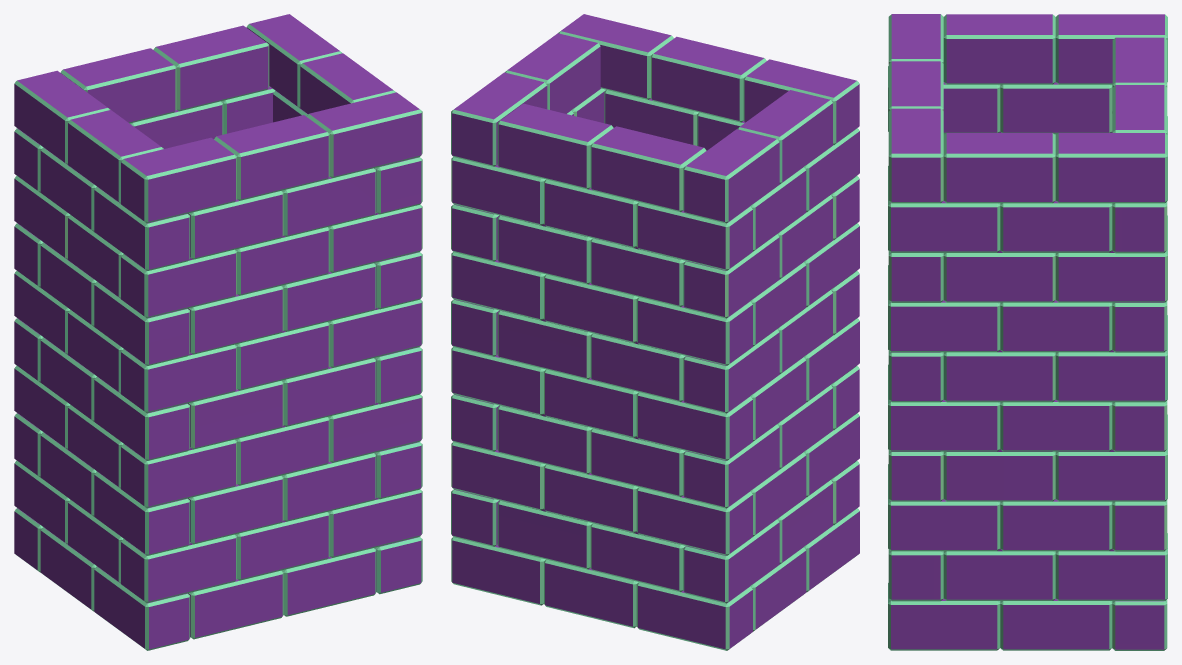
The model's file is KüpKaleEngel.fbx.
3 views of the same model, side by side, from view 1: azimuth 30°, elevation 25°; view 2: azimuth 150°, elevation 25°; view 3: azimuth 270°, elevation 25° (orthographic). The views are drawn at different scales.
Parts seen in each view (by area): view 1: KüpKaleEngel.045, KüpKaleEngel.039, KüpKaleEngel.043, KüpKaleEngel.044, KüpKaleEngel.040, KüpKaleEngel.009, KüpKaleEngel.027, KüpKaleEngel.036, KüpKaleEngel.018, KüpKaleEngel.041, KüpKaleEngel.042, KüpKaleEngel.100 (+50 smaller); view 2: KüpKaleEngel.041, KüpKaleEngel.040, KüpKaleEngel.039, KüpKaleEngel.044, KüpKaleEngel.052, KüpKaleEngel.106, KüpKaleEngel.079, KüpKaleEngel.133, KüpKaleEngel.160, KüpKaleEngel.037, KüpKaleEngel.042, KüpKaleEngel.043 (+49 smaller); view 3: KüpKaleEngel.038, KüpKaleEngel.042, KüpKaleEngel.037, KüpKaleEngel.019, KüpKaleEngel.077, KüpKaleEngel.011, KüpKaleEngel.020, KüpKaleEngel.078, KüpKaleEngel.132, KüpKaleEngel.010, KüpKaleEngel.131, KüpKaleEngel.028 (+26 smaller).
Part boxes in pixels (x1=…): KüpKaleEngel.045: x1=121, y1=137, x2=236, y2=223; KüpKaleEngel.039: x1=153, y1=25, x2=269, y2=111; KüpKaleEngel.043: x1=306, y1=92, x2=422, y2=178; KüpKaleEngel.044: x1=214, y1=115, x2=329, y2=200; KüpKaleEngel.040: x1=60, y1=48, x2=176, y2=123; KüpKaleEngel.009: x1=121, y1=534, x2=236, y2=602; KüpKaleEngel.027: x1=121, y1=344, x2=236, y2=413; KüpKaleEngel.036: x1=121, y1=249, x2=236, y2=318; KüpKaleEngel.018: x1=121, y1=439, x2=236, y2=508; KüpKaleEngel.041: x1=14, y1=70, x2=110, y2=164; KüpKaleEngel.042: x1=68, y1=110, x2=163, y2=203; KüpKaleEngel.100: x1=94, y1=377, x2=190, y2=460; KüpKaleEngel.041: x1=683, y1=129, x2=779, y2=223; KüpKaleEngel.040: x1=590, y1=126, x2=706, y2=212; KüpKaleEngel.039: x1=497, y1=103, x2=613, y2=189; KüpKaleEngel.044: x1=651, y1=36, x2=766, y2=122; KüpKaleEngel.052: x1=636, y1=582, x2=752, y2=650; KüpKaleEngel.106: x1=636, y1=392, x2=752, y2=460; KüpKaleEngel.079: x1=636, y1=487, x2=752, y2=555; KüpKaleEngel.133: x1=636, y1=297, x2=752, y2=365; KüpKaleEngel.160: x1=636, y1=202, x2=752, y2=270; KüpKaleEngel.037: x1=451, y1=72, x2=547, y2=166; KüpKaleEngel.042: x1=737, y1=90, x2=832, y2=183; KüpKaleEngel.043: x1=558, y1=14, x2=673, y2=99; KüpKaleEngel.038: x1=943, y1=133, x2=1055, y2=203; KüpKaleEngel.042: x1=943, y1=14, x2=1055, y2=84; KüpKaleEngel.037: x1=1055, y1=133, x2=1167, y2=203; KüpKaleEngel.019: x1=1055, y1=334, x2=1167, y2=402; KüpKaleEngel.077: x1=888, y1=483, x2=1000, y2=551; KüpKaleEngel.011: x1=943, y1=449, x2=1055, y2=501; KüpKaleEngel.020: x1=943, y1=350, x2=1055, y2=402; KüpKaleEngel.078: x1=1000, y1=499, x2=1112, y2=551; KüpKaleEngel.132: x1=1000, y1=302, x2=1112, y2=352; KüpKaleEngel.010: x1=1055, y1=434, x2=1167, y2=501; KüpKaleEngel.131: x1=888, y1=284, x2=1000, y2=352; KüpKaleEngel.028: x1=1055, y1=235, x2=1167, y2=302.
Bounding box in the file's own units: 2.58 × 4.21 × 2.15.
